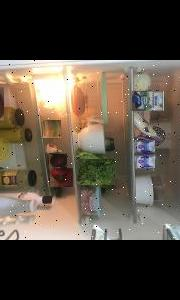Aguacate: (48, 153, 66, 169)
Lechuga/Endivia: (76, 159, 114, 185)
Manzana: (0, 133, 10, 149)
Yogur: (134, 140, 154, 154), (134, 156, 154, 169)
